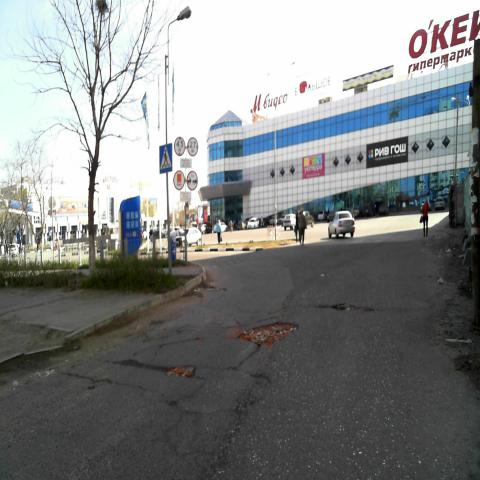3_13: (174, 136, 184, 157)
3_14: (187, 136, 198, 156)
3_16: (186, 171, 198, 192)
3_32: (174, 169, 184, 190)
